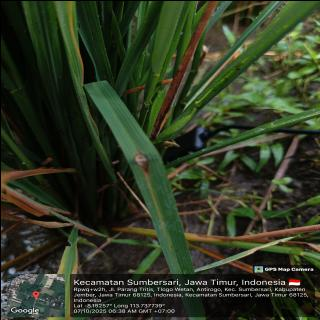Blast: (133, 153, 148, 174)
